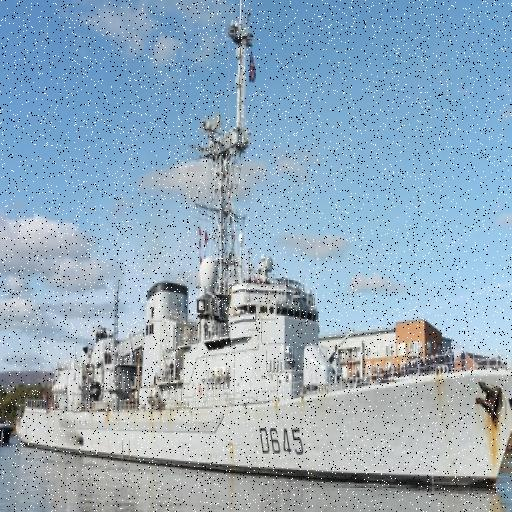Fragata: (8, 1, 512, 498)
